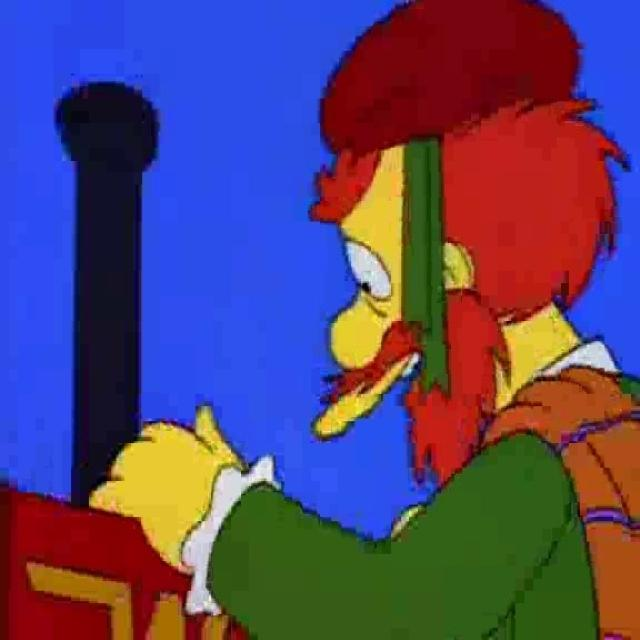Groundskeeper Willie: (302, 0, 640, 495)
